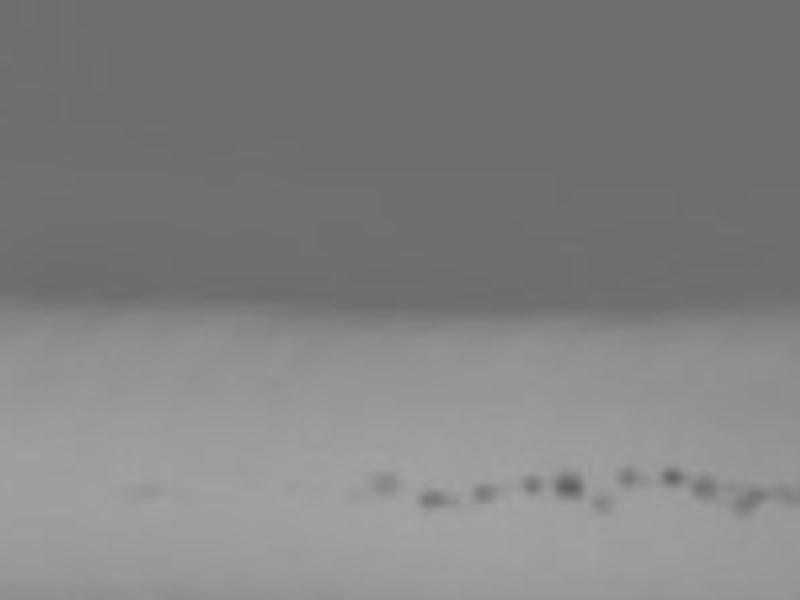defect: (366, 466, 401, 501), (128, 479, 173, 502), (518, 473, 546, 502), (555, 473, 585, 500), (612, 462, 639, 490), (692, 478, 718, 507), (768, 482, 797, 507), (420, 488, 449, 511), (474, 483, 501, 507), (343, 490, 370, 514), (660, 466, 688, 488), (733, 499, 754, 523), (592, 496, 615, 517), (744, 486, 765, 509), (725, 480, 738, 493)
